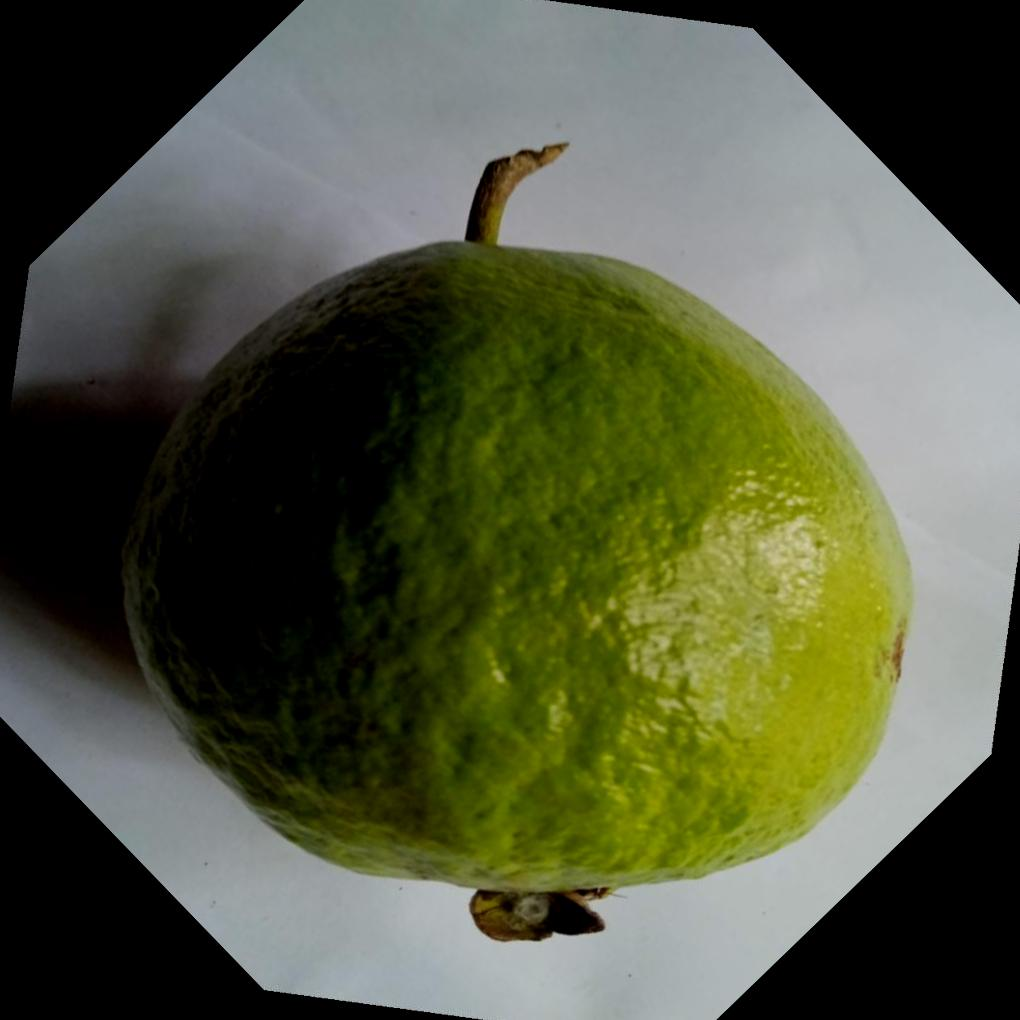FreshGuava: (119, 150, 919, 905)
